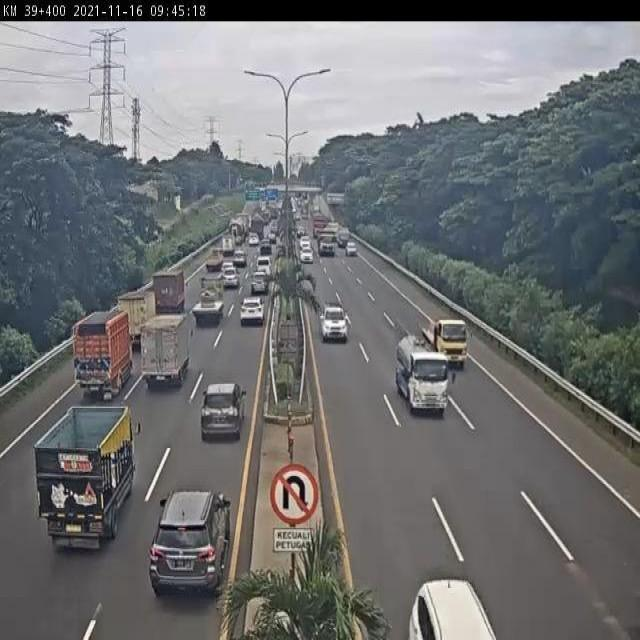car: (148, 486, 234, 594), (200, 384, 247, 443), (321, 303, 349, 341), (239, 296, 265, 327), (250, 272, 270, 297), (229, 248, 248, 271), (220, 265, 237, 287)
small bus: (254, 259, 273, 280)
small truck: (35, 408, 139, 548), (395, 332, 449, 415), (140, 313, 189, 388), (114, 293, 156, 348), (420, 320, 467, 368), (206, 247, 226, 270)
truck-m-: (72, 309, 134, 396), (152, 268, 184, 321), (191, 285, 227, 328)
